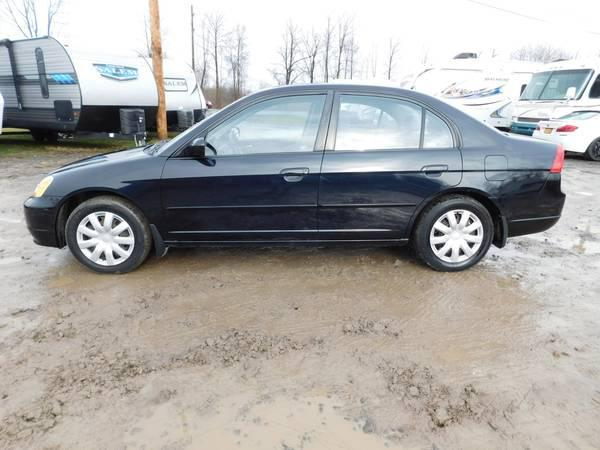Front_Bumper: (20, 198, 60, 250)
Front_Fender: (41, 154, 169, 241)
Front_Left_Door: (163, 150, 325, 243)
Front_Left_Window: (173, 90, 339, 157)
Left_Headlight: (31, 174, 54, 197)
Left_Taillight: (551, 147, 563, 176)
Rear_Bumper: (488, 171, 565, 237)
Rear_Fender: (460, 140, 559, 195)
Rear_Left_Door: (319, 150, 461, 245)
Rear_Left_Window: (327, 92, 461, 156)
Roof: (158, 82, 507, 154)
Wheel: (67, 197, 158, 278), (417, 195, 496, 271)
